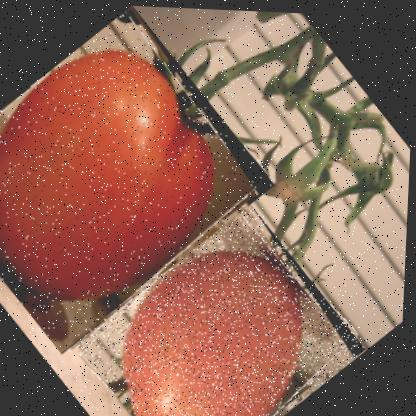tomato: (0, 0, 284, 362), (71, 191, 375, 415)
